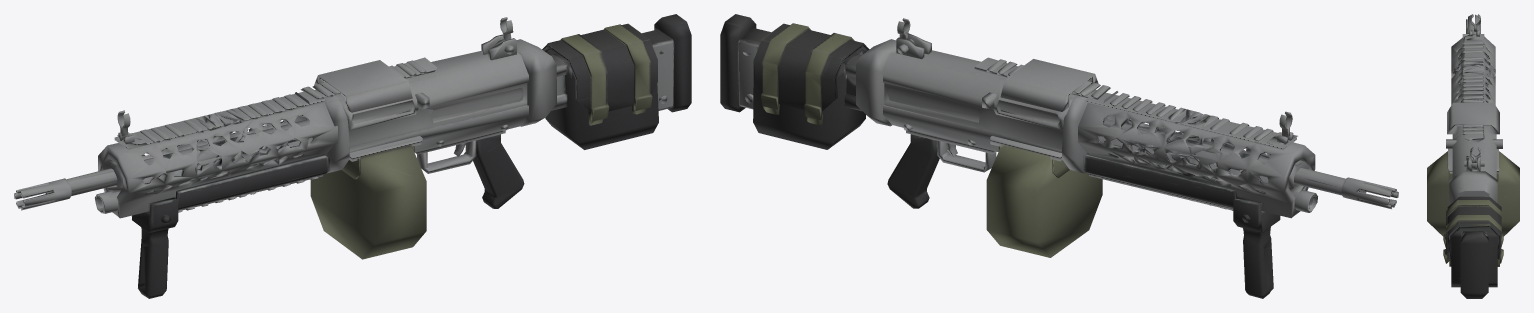
Rendered from lmg_tempest.glb.
The picture shows the model from 3 angles, left to right: view 1: azimuth 30°, elevation 25°; view 2: azimuth 150°, elevation 25°; view 3: azimuth 270°, elevation 25°; orthographic projection. The views are drawn at different scales.
Bounding box in the file's own units: 0.9575 × 0.2603 × 0.1636.
Materials: 1 (1 with a texture image).
